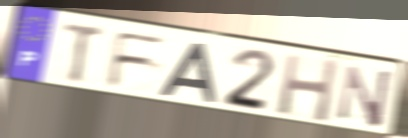2: (224, 48, 278, 114)
A: (157, 40, 219, 105)
F: (104, 29, 170, 89)
H: (275, 52, 341, 125)
N: (336, 63, 395, 131)
T: (61, 21, 108, 84)
